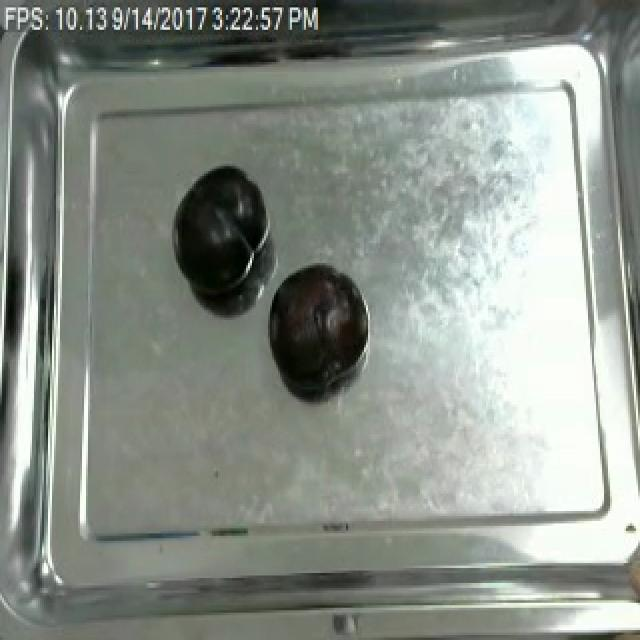Fruit: (170, 159, 270, 300), (266, 263, 360, 392)
